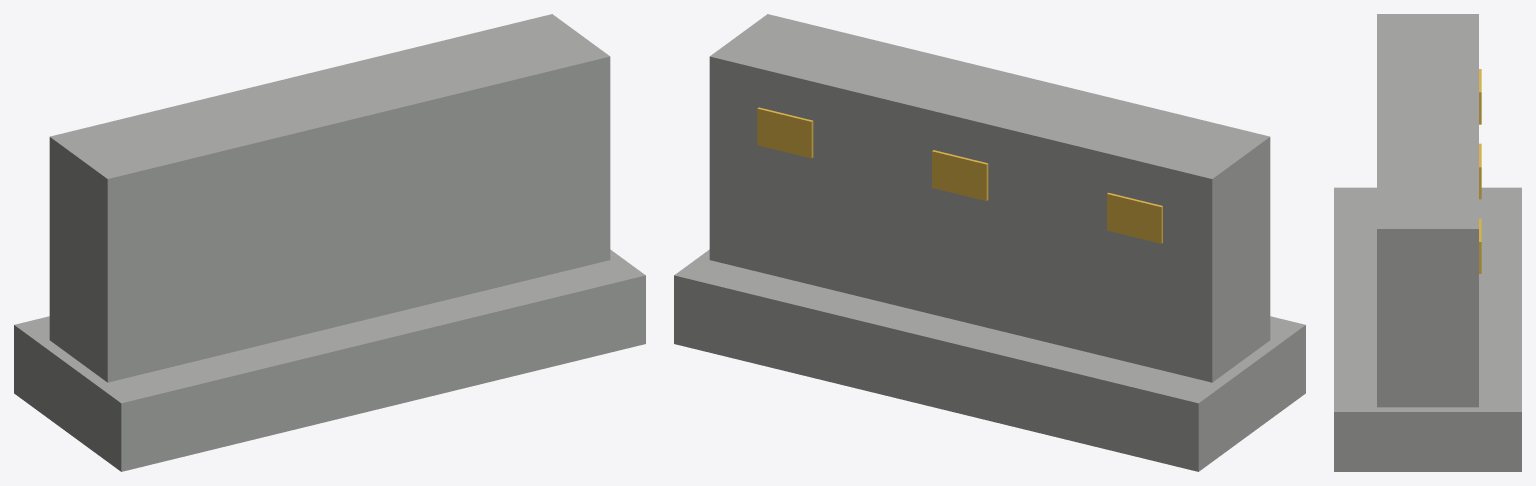
File: concrete_barrier.glb
The picture shows the model from 3 angles, left to right: view 1: azimuth 30°, elevation 25°; view 2: azimuth 150°, elevation 25°; view 3: azimuth 270°, elevation 25°; orthographic projection. The views are drawn at different scales.
Parts seen in each view (by area): view 1: concrete_barrier; view 2: concrete_barrier; view 3: concrete_barrier.
Part boxes in pixels (<box>): concrete_barrier: <box>14,14,645,471</box>; concrete_barrier: <box>674,14,1305,471</box>; concrete_barrier: <box>1334,14,1521,471</box>.
Size of the model in its own units: 2.4 by 1.19 by 0.85.
